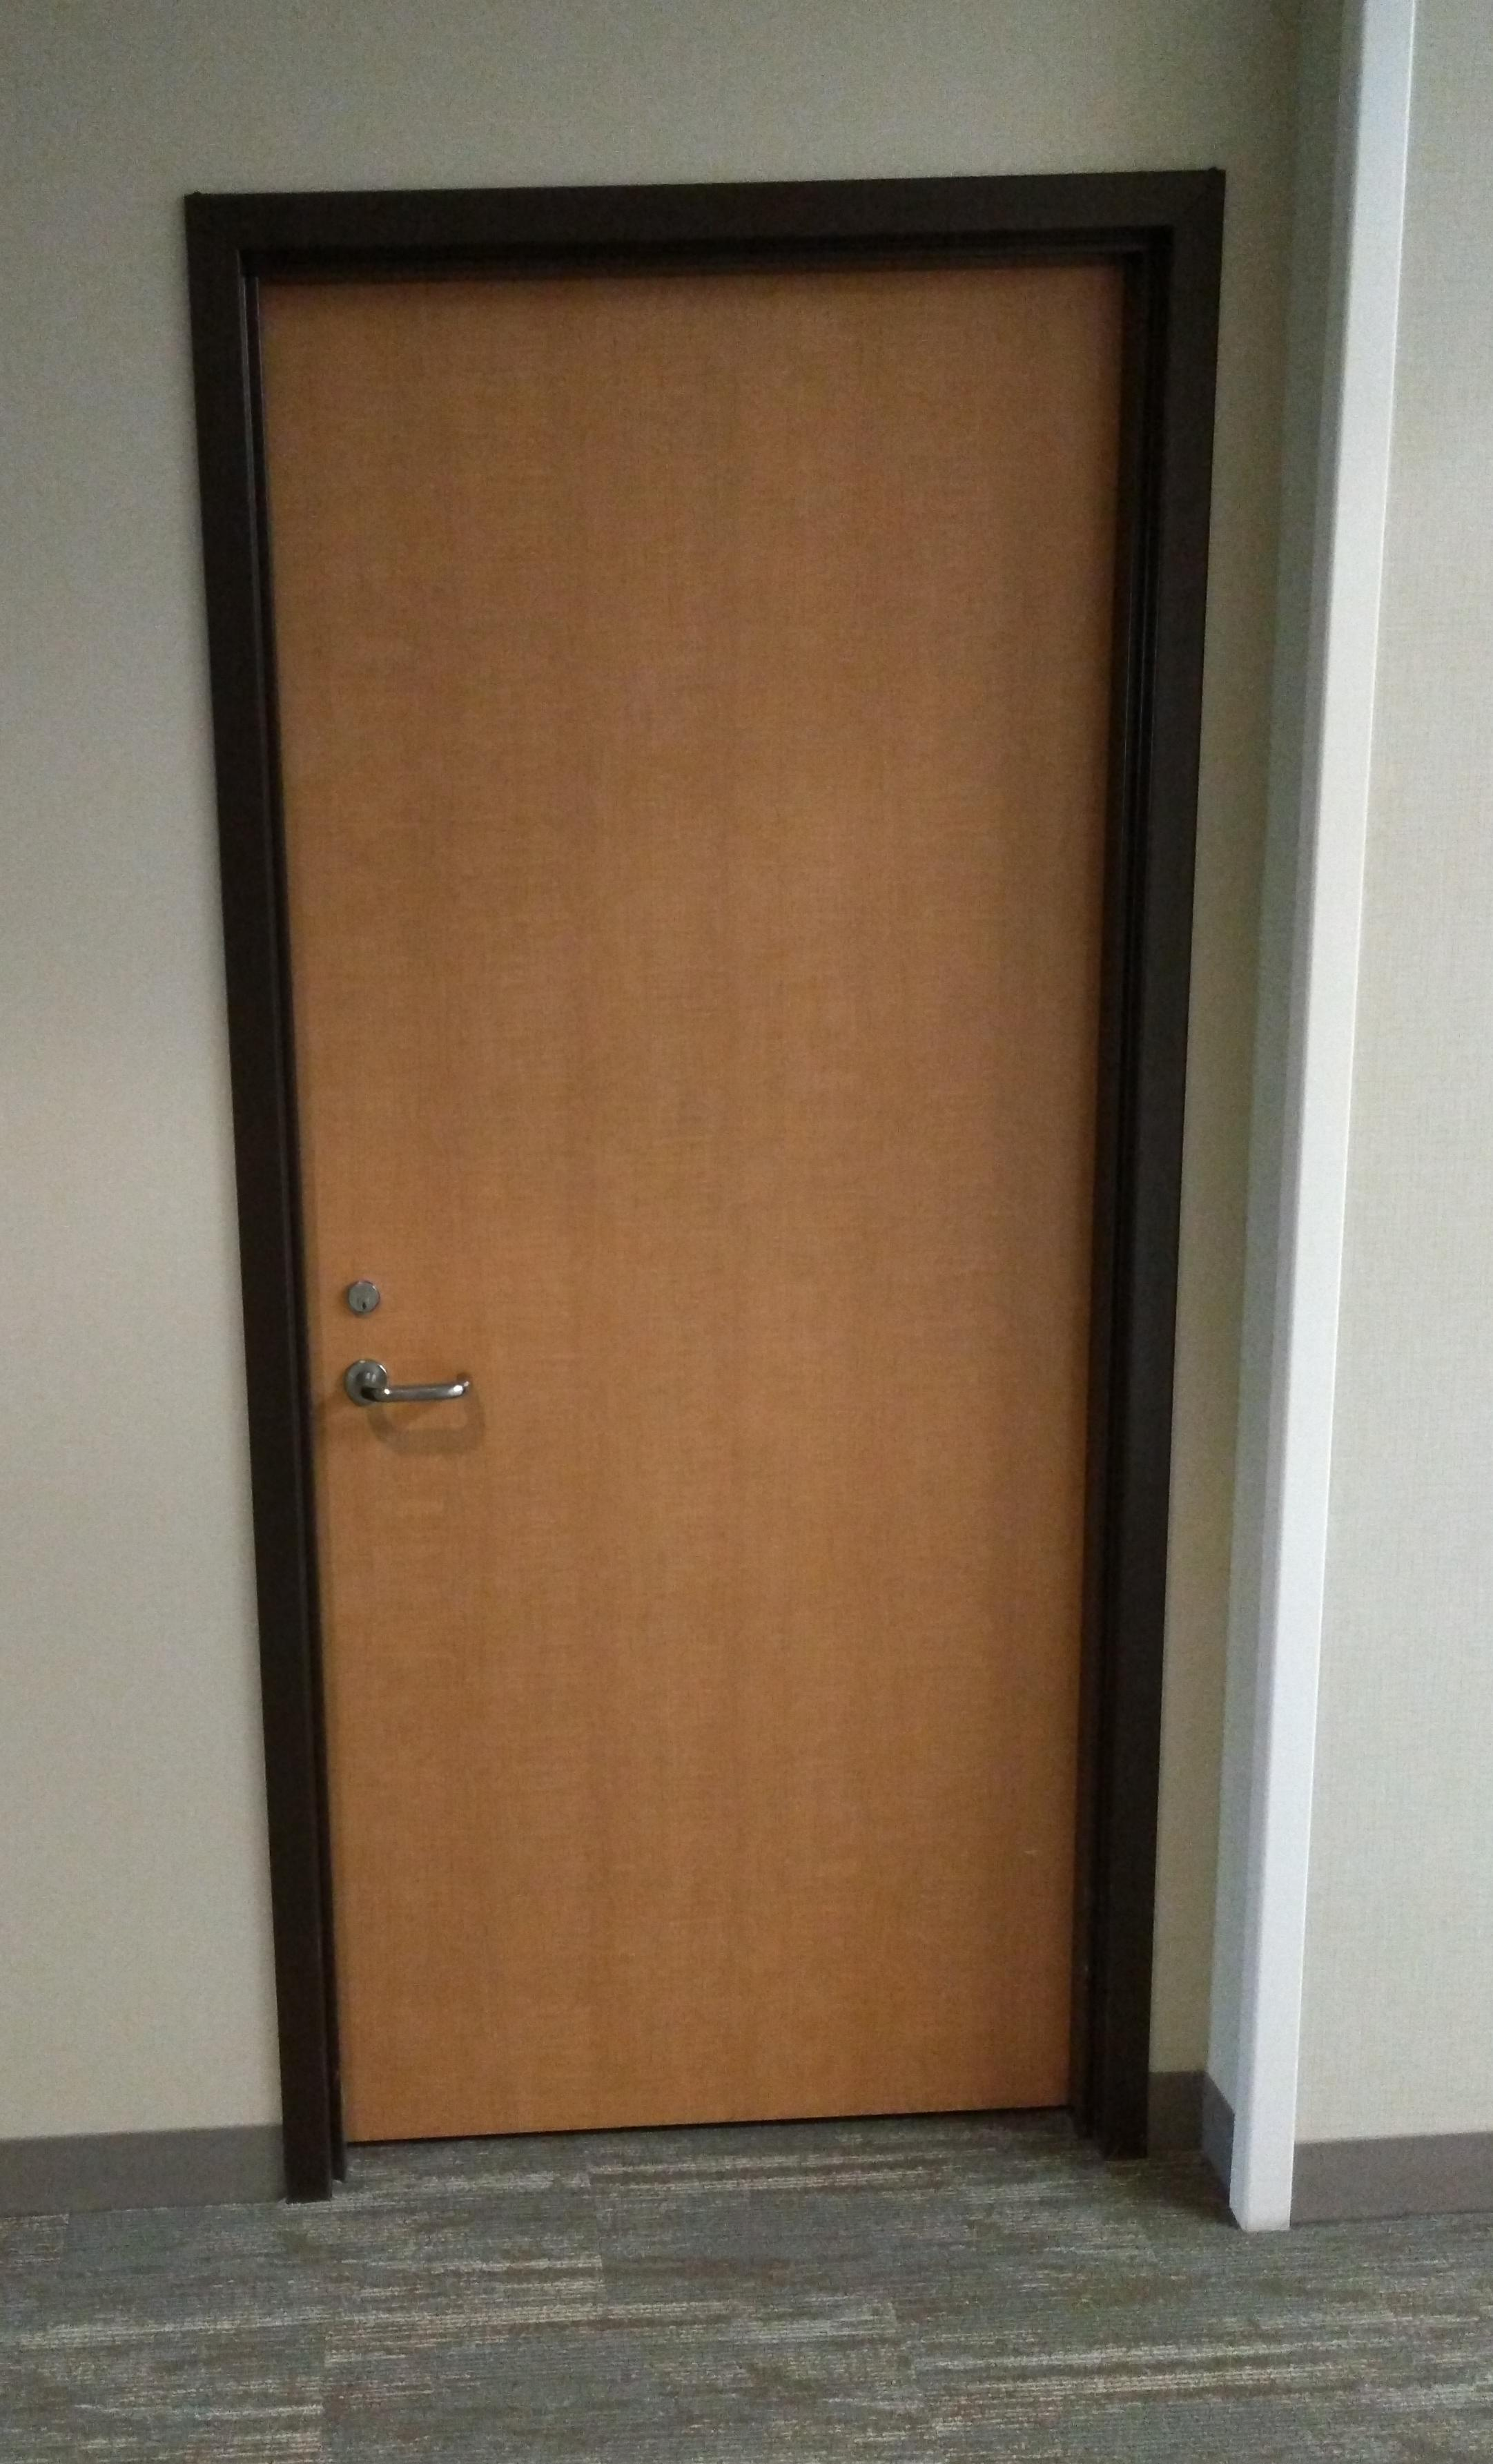door: (208, 216, 1169, 2156)
